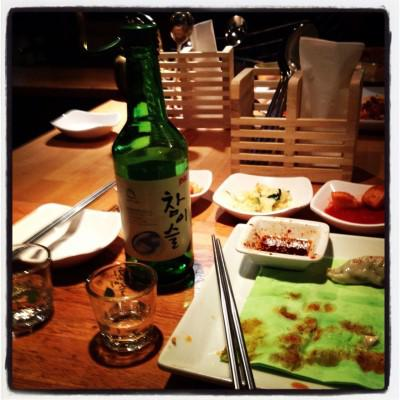soju: (102, 24, 200, 279)
